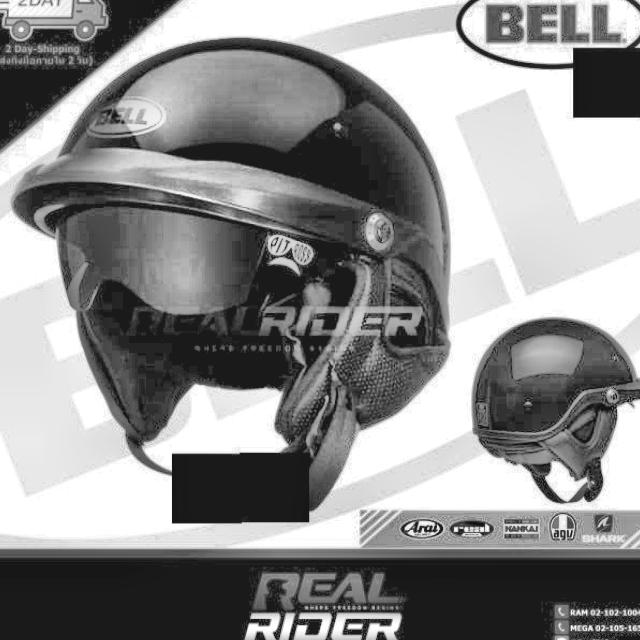Helmet: (15, 46, 463, 534), (474, 319, 638, 516)
